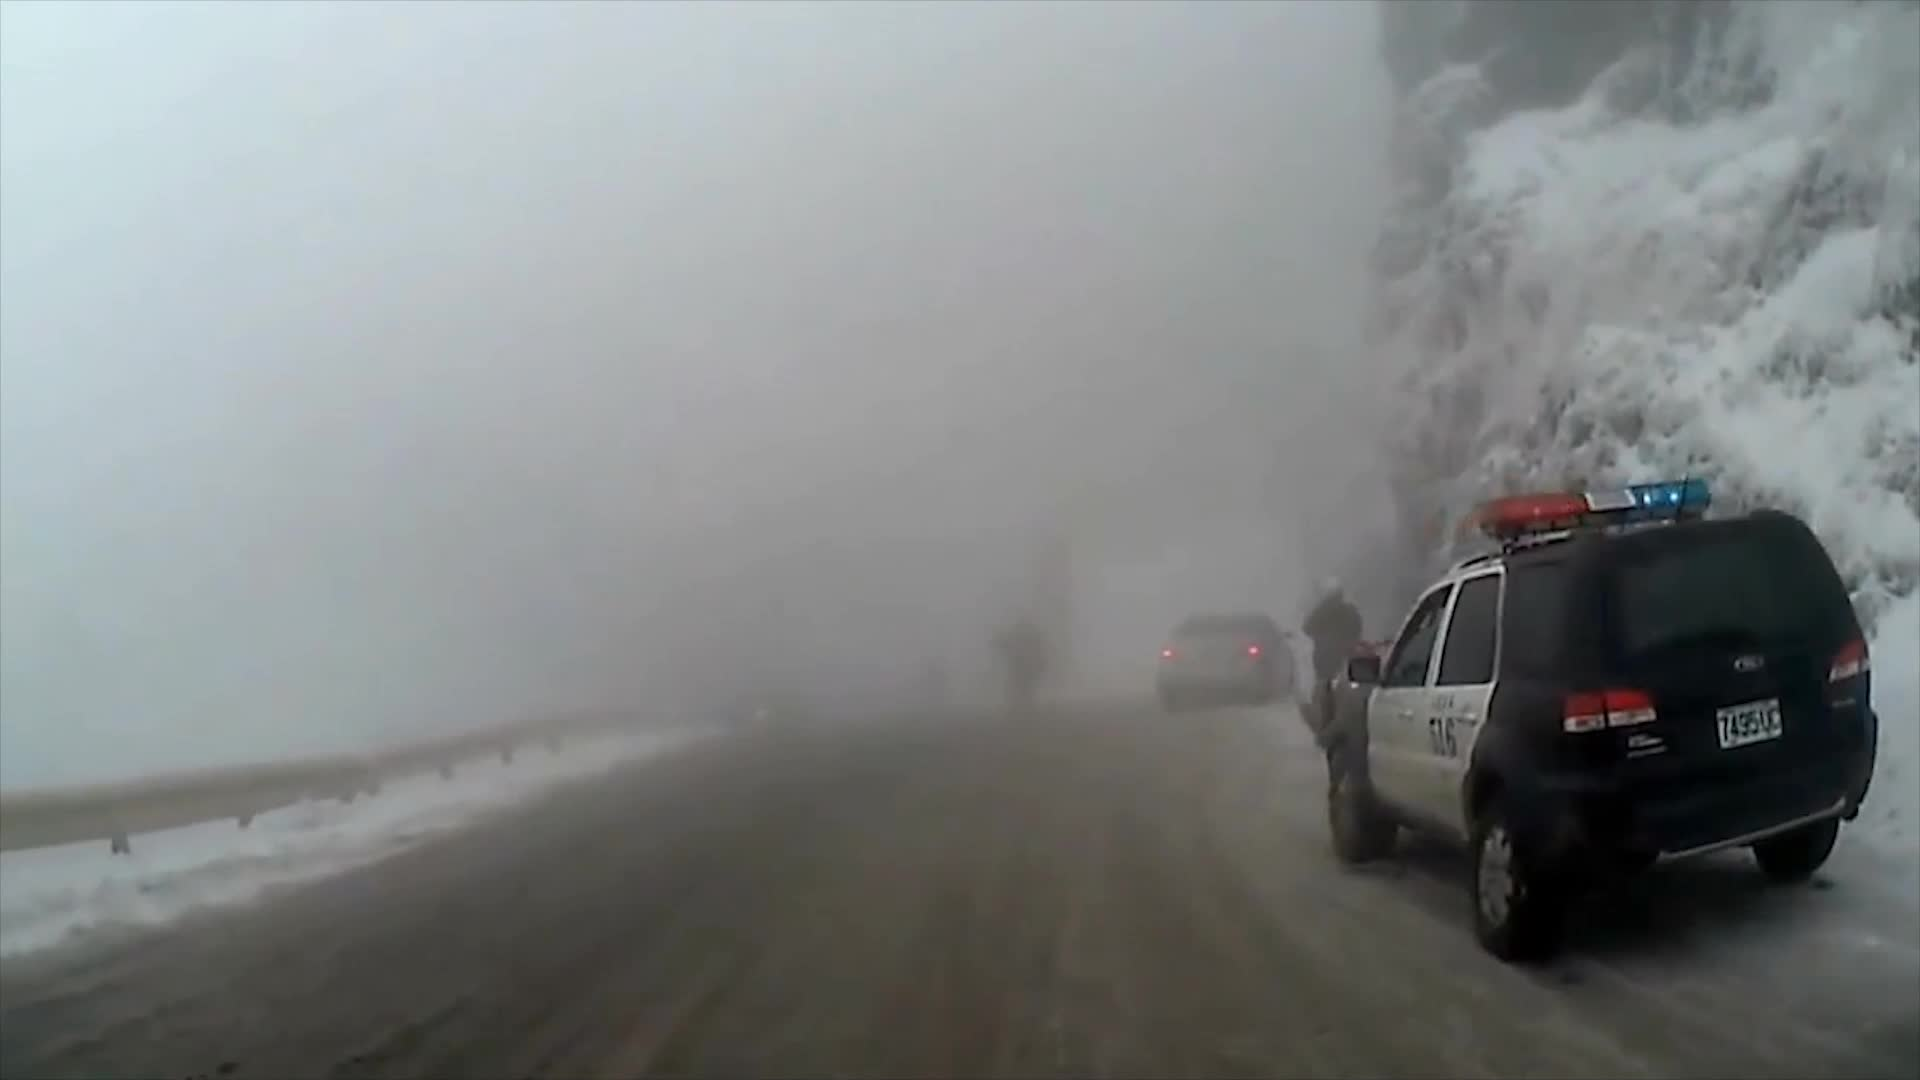pedestrian: (1299, 576, 1376, 740)
vehicle: (1322, 475, 1880, 961), (1155, 612, 1296, 713)
